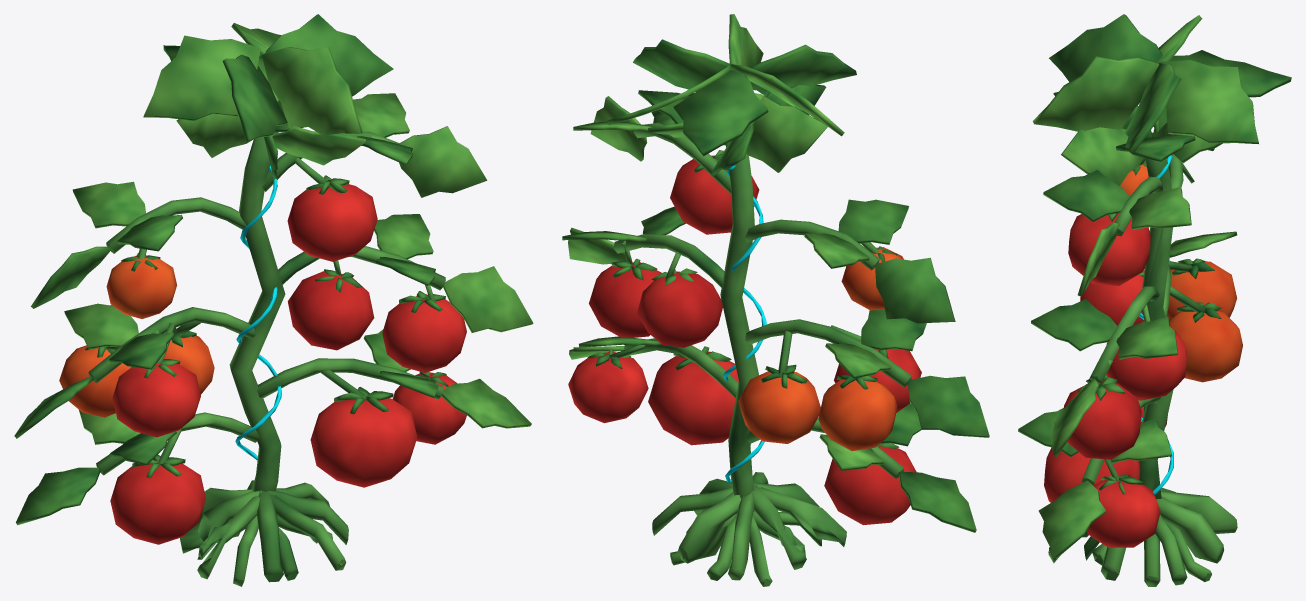
File: tomato_stage_2.glb
The picture shows the model from 3 angles, left to right: view 1: azimuth 30°, elevation 25°; view 2: azimuth 150°, elevation 25°; view 3: azimuth 270°, elevation 25°; orthographic projection.
Parts seen in each view (by area): view 1: tomato_stage_1; view 2: tomato_stage_1; view 3: tomato_stage_1.
Boxes of the visible parts, left/top/right/bottom form: tomato_stage_1: left=14, top=14, right=533, bottom=586; tomato_stage_1: left=562, top=14, right=989, bottom=586; tomato_stage_1: left=1018, top=14, right=1291, bottom=586.
Size of what is drawn, in the model's own units: 2.2 by 2.31 by 1.1.
1 material, 1 textured.
